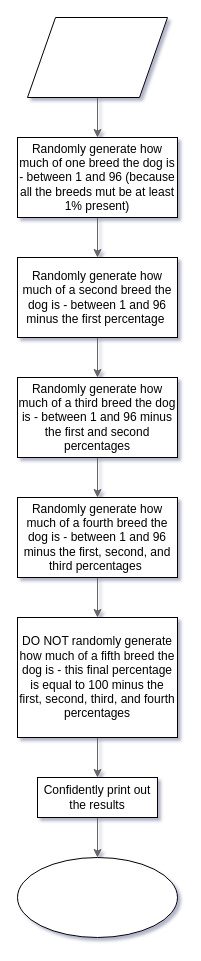
Some shapes in this 201 by 961 pixel diagram are drawn without their labels. Each missing label, with the box of its shape:
Ask the user for the name of their dog: (26, 16, 168, 98)
END: (16, 856, 178, 938)
